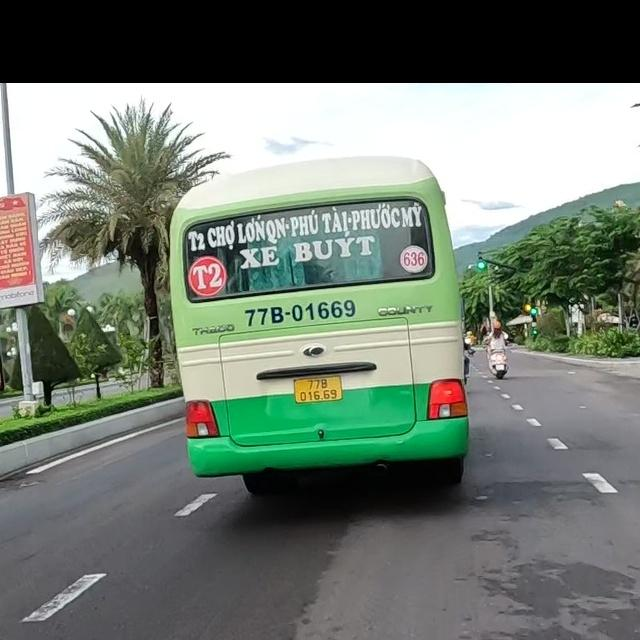license-plate: (294, 376, 343, 404)
